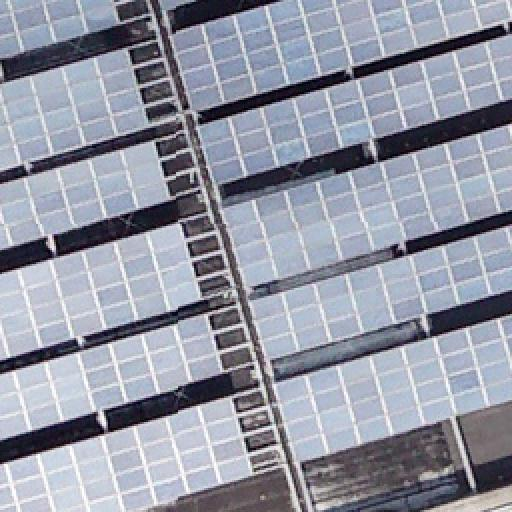solar-panel: (196, 35, 512, 189), (220, 126, 512, 290), (169, 0, 511, 112), (249, 224, 511, 360), (272, 314, 512, 462), (0, 396, 256, 512), (0, 310, 228, 438), (1, 223, 207, 361), (0, 140, 172, 252), (0, 49, 152, 175), (0, 1, 122, 63), (159, 0, 225, 20)
